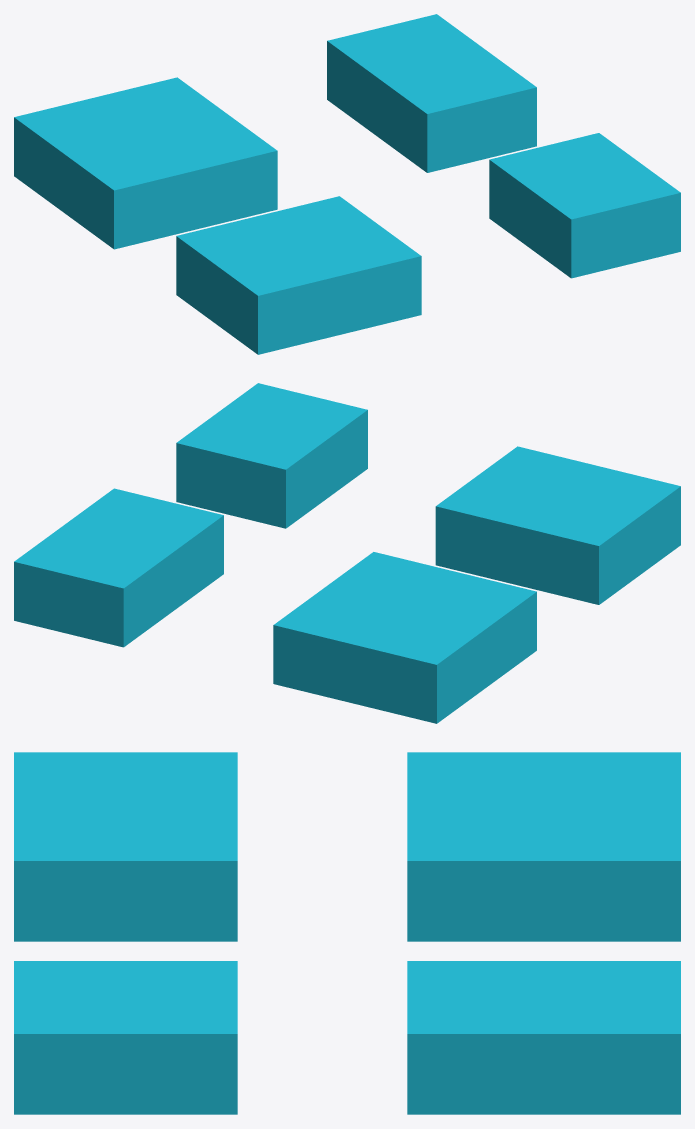
Rendered from collider.glb.
3 renders of one model, top to bottom at view 1: azimuth 30°, elevation 25°; view 2: azimuth 150°, elevation 25°; view 3: azimuth 270°, elevation 25°, orthographic. The views are drawn at different scales.
Visible parts, largest first — view 1: Collider; view 2: Collider; view 3: Collider.
Part boxes in pixels (x1=…): Collider: x1=14, y1=14, x2=680, y2=354; Collider: x1=14, y1=383, x2=680, y2=723; Collider: x1=14, y1=752, x2=680, y2=1114.
Bounding box in the file's own units: 30 × 4 × 30.
